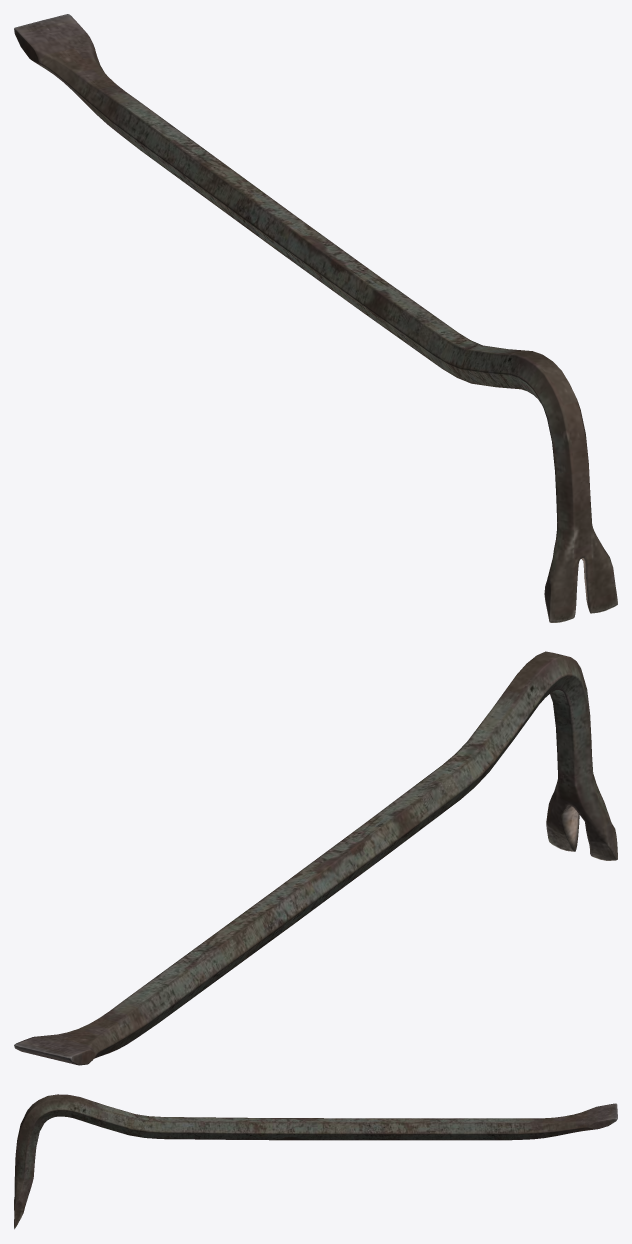
Rendered from pe_de_cabra.glb.
The picture shows the model from 3 angles, top to bottom: view 1: azimuth 30°, elevation 25°; view 2: azimuth 150°, elevation 25°; view 3: azimuth 270°, elevation 25°; orthographic projection. The views are drawn at different scales.
Parts seen in each view (by area): view 1: Malha; view 2: Malha; view 3: Malha.
Boxes of the visible parts, x1=… form: Malha: x1=14, y1=14, x2=617, y2=622; Malha: x1=14, y1=651, x2=617, y2=1065; Malha: x1=14, y1=1094, x2=617, y2=1229.
Size of the model in its own units: 0.0451 by 0.1424 by 0.62.
1 material, 1 textured.
